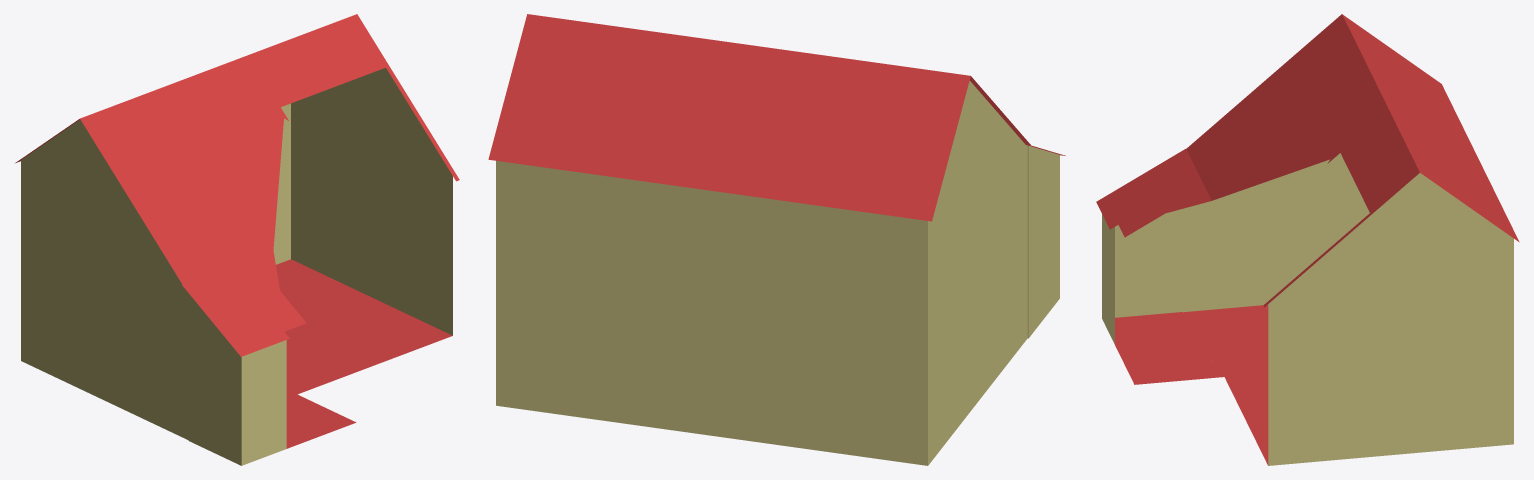
3 renders of one model, left to right at view 1: azimuth 30°, elevation 25°; view 2: azimuth 150°, elevation 25°; view 3: azimuth 270°, elevation 25°, orthographic. The views are drawn at different scales.
Bounding box in the file's own units: 21.27 × 21.03 × 15.45.
